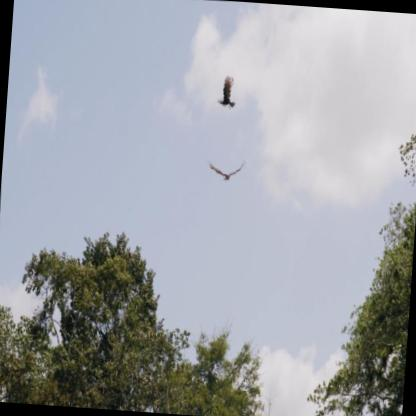bird: (204, 152, 249, 186), (214, 74, 237, 111)
